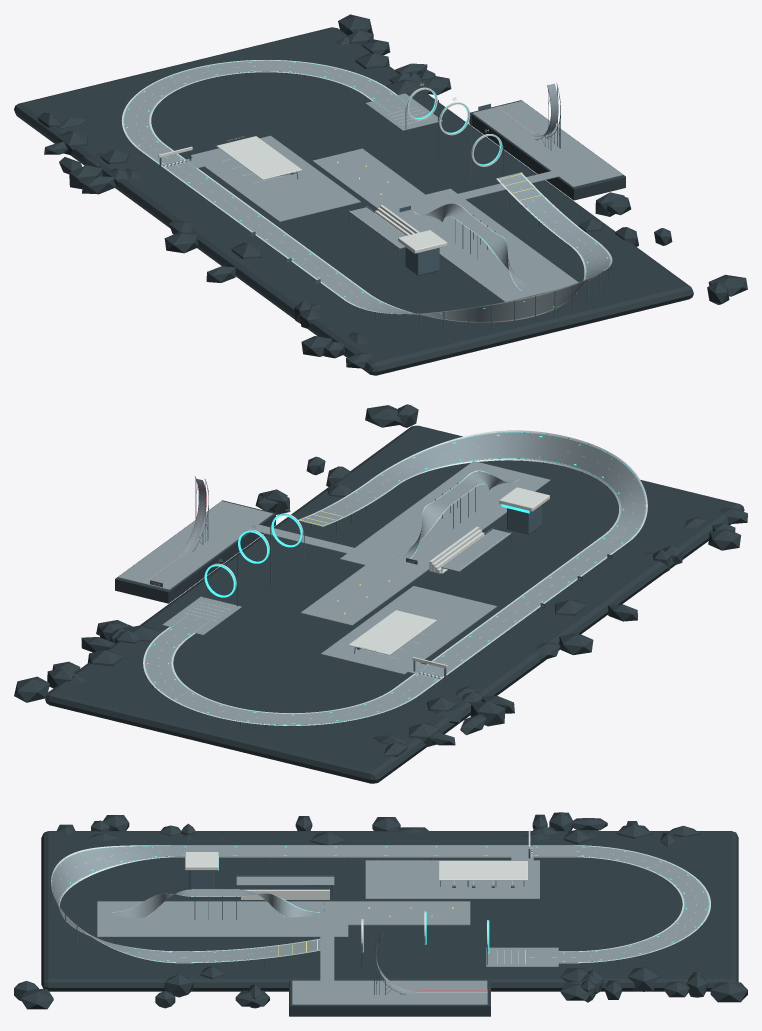
File: VectorCoastal_Course.fbx
The picture shows the model from 3 angles, top to bottom: view 1: azimuth 30°, elevation 25°; view 2: azimuth 150°, elevation 25°; view 3: azimuth 270°, elevation 25°; orthographic projection. The views are drawn at different scales.
Parts seen in each view (by area): view 1: VIS_LOD0_Roadster_Basalt, VIS_LOD0_Roadster_Deck_Ceramic, VIS_LOD0_Roadster_Porcelain, COL_Ground_Paddock, COL_Ground_ReturnArc, COL_Ground_Acceleration, COL_WallRide_WallArc, COL_Ground_Practice, VIS_LOD0_Roadster_Structure, COL_Ground_Launch, COL_Landing_Apron, VIS_LOD0_Roadster_Guidance_Cyan (+1 smaller); view 2: VIS_LOD0_Roadster_Basalt, VIS_LOD0_Roadster_Deck_Ceramic, VIS_LOD0_Roadster_Porcelain, COL_WallRide_WallArc, COL_Ground_Paddock, COL_Ground_ReturnArc, COL_Ground_Acceleration, COL_Ground_Practice, VIS_LOD0_Roadster_Structure, VIS_LOD0_Roadster_Guidance_Cyan, COL_Landing_Apron, COL_Ground_Launch (+1 smaller); view 3: VIS_LOD0_Roadster_Basalt, VIS_LOD0_Roadster_Deck_Ceramic, VIS_LOD0_Roadster_Porcelain, COL_Ground_Paddock, COL_Ground_Acceleration, COL_Ground_ReturnArc, COL_WallRide_WallArc, COL_Ground_Practice, VIS_LOD0_Roadster_Structure, COL_Ground_Launch, COL_Landing_Apron, COL_Ground_ObservationDeck (+4 smaller).
Part boxes in pixels (x1,y1,x2,y2): VIS_LOD0_Roadster_Basalt: (14, 14, 747, 375); VIS_LOD0_Roadster_Deck_Ceramic: (198, 101, 622, 301); VIS_LOD0_Roadster_Porcelain: (121, 60, 612, 322); COL_Ground_Paddock: (191, 135, 360, 221); COL_Ground_ReturnArc: (123, 60, 389, 150); COL_Ground_Acceleration: (143, 145, 366, 298); COL_WallRide_WallArc: (345, 238, 610, 321); COL_Ground_Practice: (312, 148, 425, 208); VIS_LOD0_Roadster_Structure: (124, 72, 611, 331); COL_Ground_Launch: (498, 173, 591, 243); COL_Landing_Apron: (365, 93, 442, 130); VIS_LOD0_Roadster_Guidance_Cyan: (124, 60, 610, 313); VIS_LOD0_Roadster_Basalt: (14, 404, 747, 783); VIS_LOD0_Roadster_Deck_Ceramic: (119, 461, 549, 589); VIS_LOD0_Roadster_Porcelain: (143, 430, 647, 725); COL_WallRide_WallArc: (373, 432, 645, 541); COL_Ground_Paddock: (321, 586, 496, 674); COL_Ground_ReturnArc: (145, 632, 418, 724); COL_Ground_Acceleration: (396, 536, 626, 693); COL_Ground_Practice: (301, 565, 422, 625); VIS_LOD0_Roadster_Structure: (145, 432, 647, 729); VIS_LOD0_Roadster_Guidance_Cyan: (145, 432, 645, 724); COL_Landing_Apron: (162, 596, 241, 635); COL_Ground_Launch: (299, 480, 395, 525); VIS_LOD0_Roadster_Basalt: (14, 812, 747, 1016); VIS_LOD0_Roadster_Deck_Ceramic: (97, 889, 487, 1004); VIS_LOD0_Roadster_Porcelain: (51, 830, 710, 992); COL_Ground_Paddock: (365, 860, 539, 898); COL_Ground_Acceleration: (181, 845, 571, 856); COL_Ground_ReturnArc: (571, 845, 709, 962); COL_WallRide_WallArc: (51, 845, 180, 962); COL_Ground_Practice: (348, 901, 470, 925); VIS_LOD0_Roadster_Structure: (50, 837, 708, 994); COL_Ground_Launch: (181, 939, 320, 962); COL_Landing_Apron: (486, 947, 558, 966); COL_Ground_ObservationDeck: (236, 876, 334, 885).
Size of what is drawn, in the model's own units: 33232 by 6388 by 52641.
